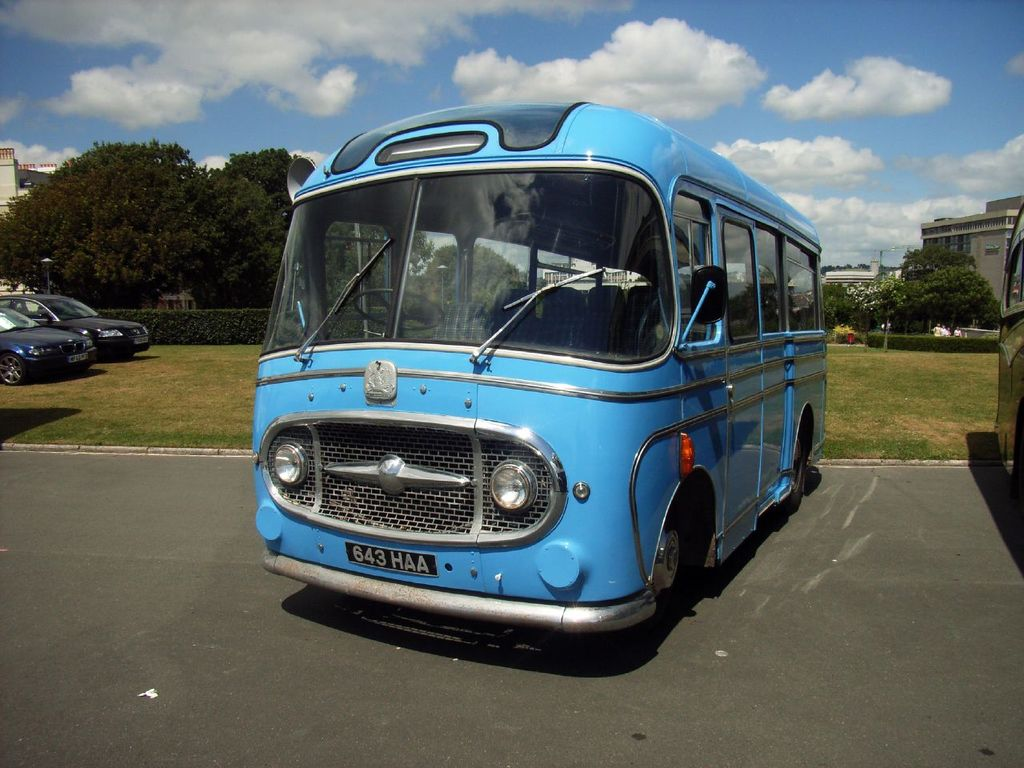cars: (6, 293, 150, 357), (0, 292, 96, 384)
